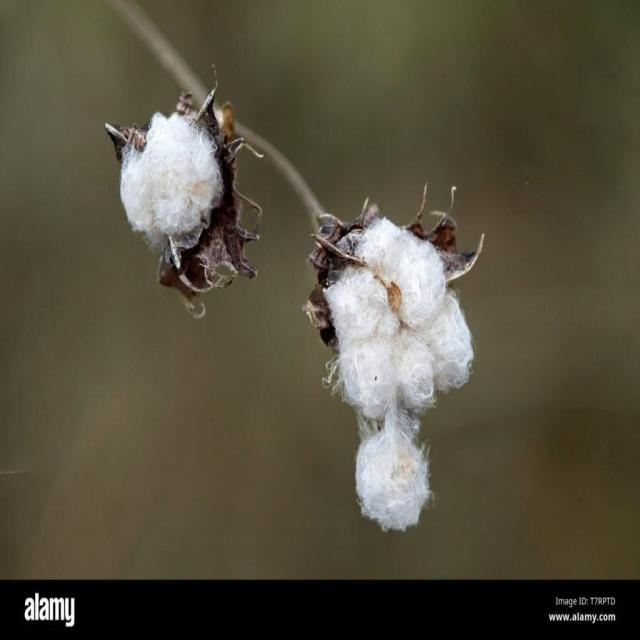Late_blight: (69, 405, 350, 640), (226, 131, 434, 369)
